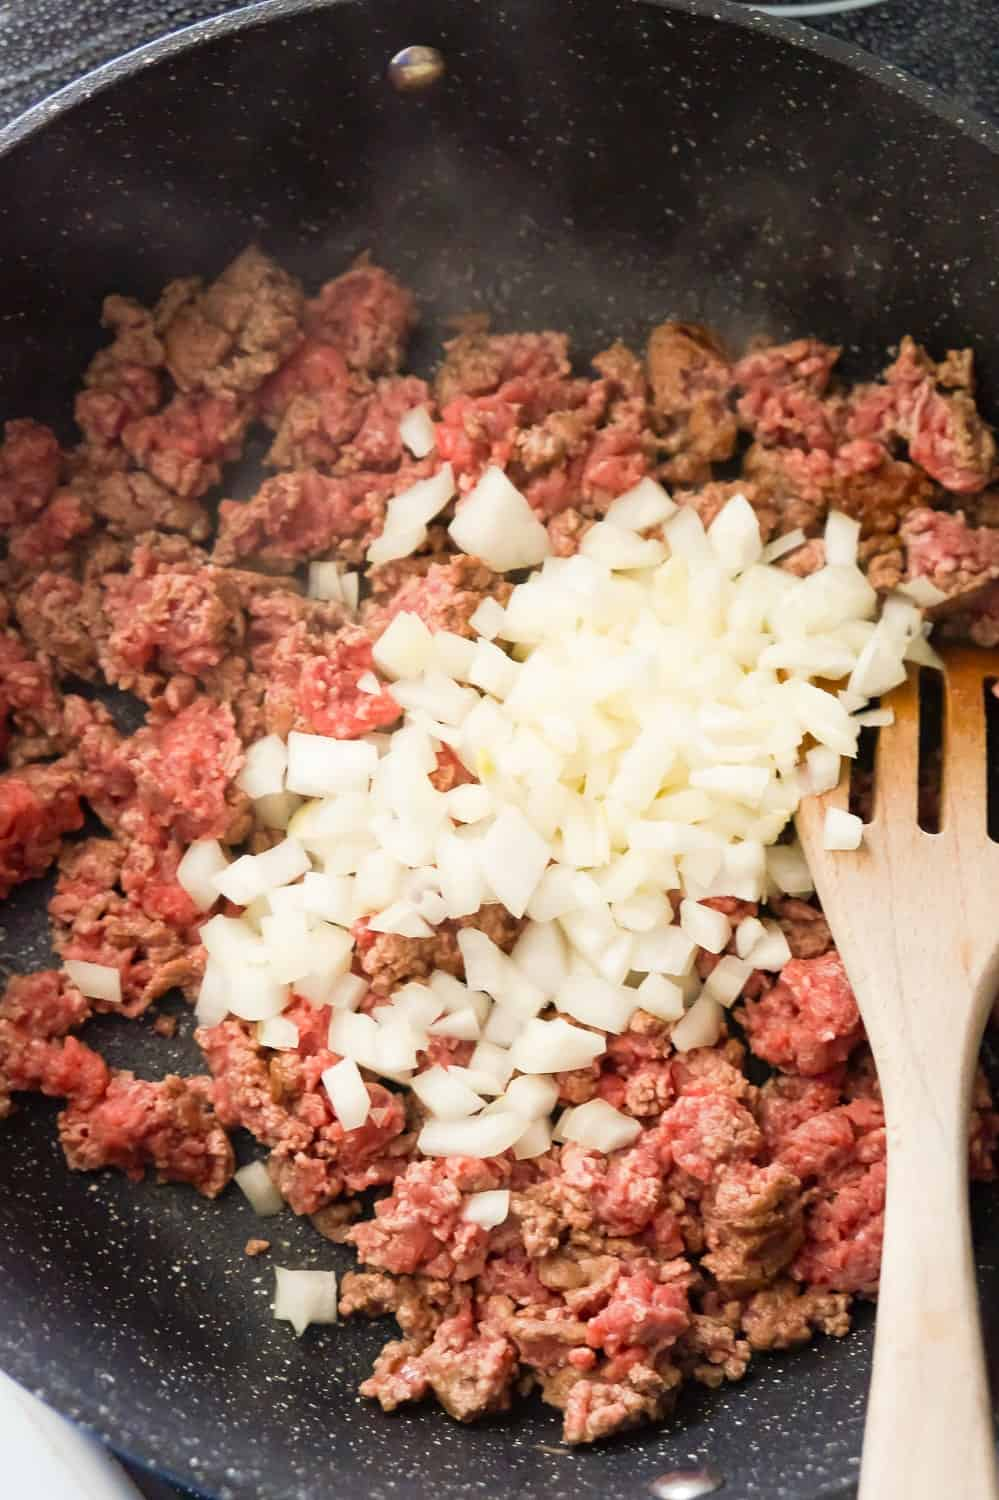ground_beef: (352, 987, 927, 1426), (67, 294, 502, 713), (531, 311, 960, 578)
